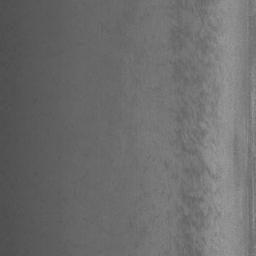Silk spot: (169, 90, 221, 185), (176, 181, 221, 256), (170, 23, 217, 55), (169, 60, 206, 88), (195, 0, 217, 33), (170, 0, 188, 23), (211, 95, 220, 119), (199, 60, 214, 68), (213, 83, 219, 94)
